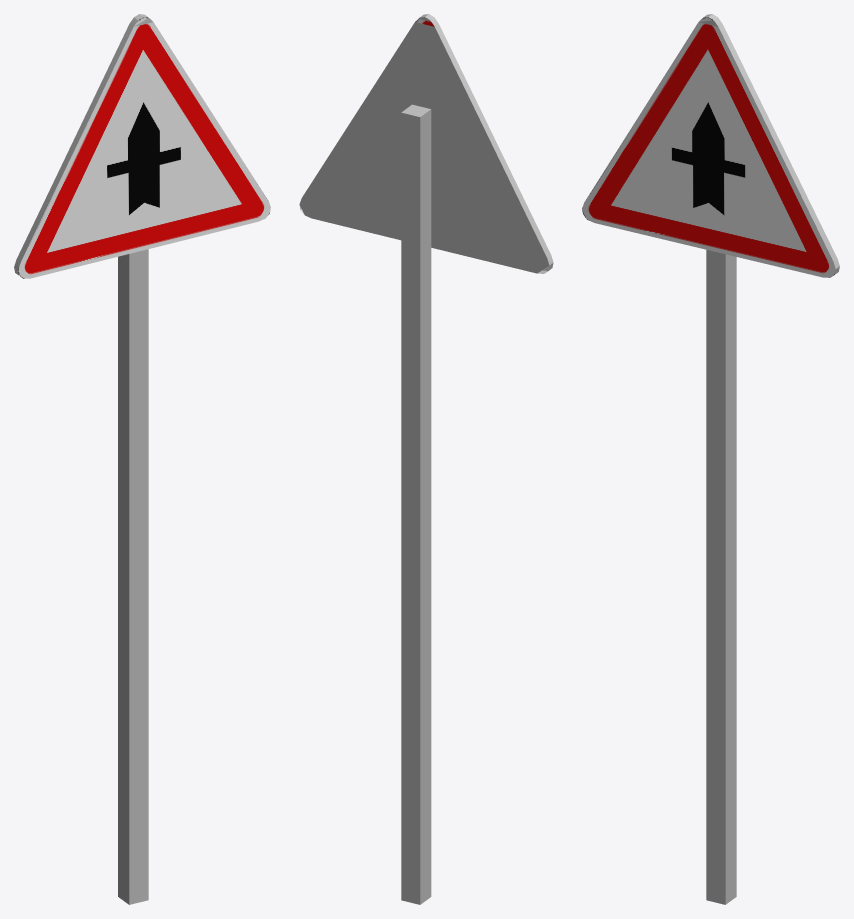
Rendered from PrioRoad.obj.
3 views of the same model, side by side, from view 1: azimuth 30°, elevation 25°; view 2: azimuth 150°, elevation 25°; view 3: azimuth 330°, elevation 25° (orthographic).
Visible parts, largest first — view 1: Sign_PriorityToTheRight; view 2: Sign_PriorityToTheRight; view 3: Sign_PriorityToTheRight.
Part boxes in pixels (x1=…): Sign_PriorityToTheRight: x1=14, y1=14, x2=270, y2=904; Sign_PriorityToTheRight: x1=299, y1=14, x2=553, y2=904; Sign_PriorityToTheRight: x1=582, y1=14, x2=839, y2=904.
Bounding box in the file's own units: 1.47 × 4.94 × 0.1792.
2 materials, 1 textured.
